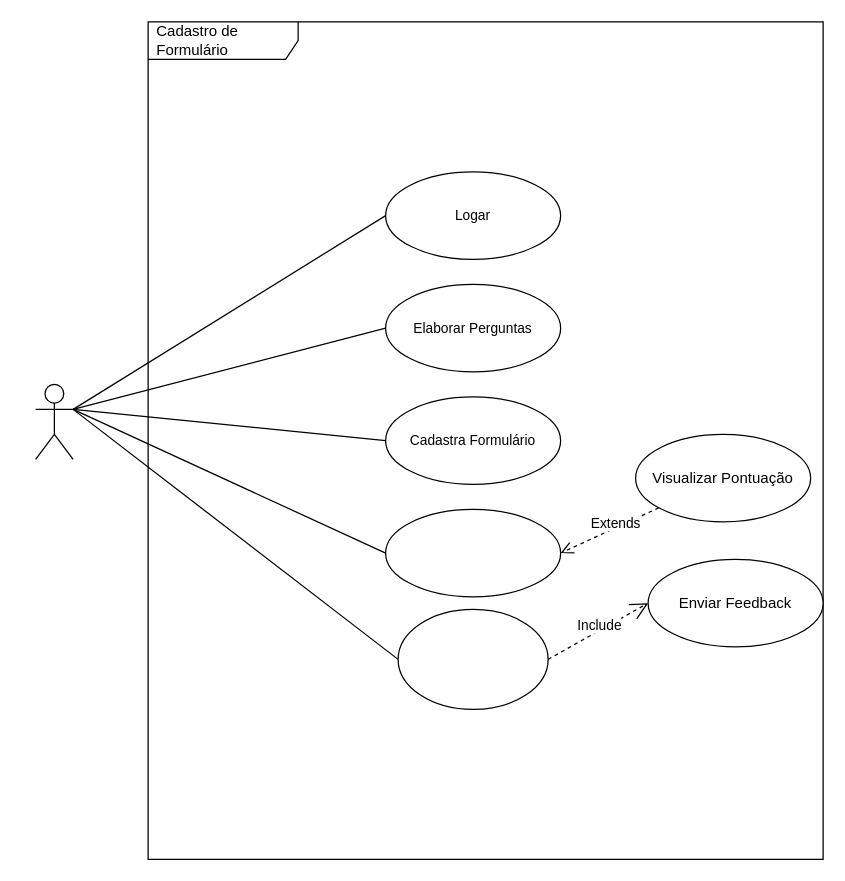
The diagram is 845 pixels wide and 881 high, and some of its shapes have lost their labels. The box of each missing label's shape, as (x1, y1, x2, y2) in pixels:
Psicologo: (34, 383, 73, 459)
Realizar Feedback: (397, 608, 548, 709)
Visualizar Formulários Respondidos: (384, 508, 561, 597)
